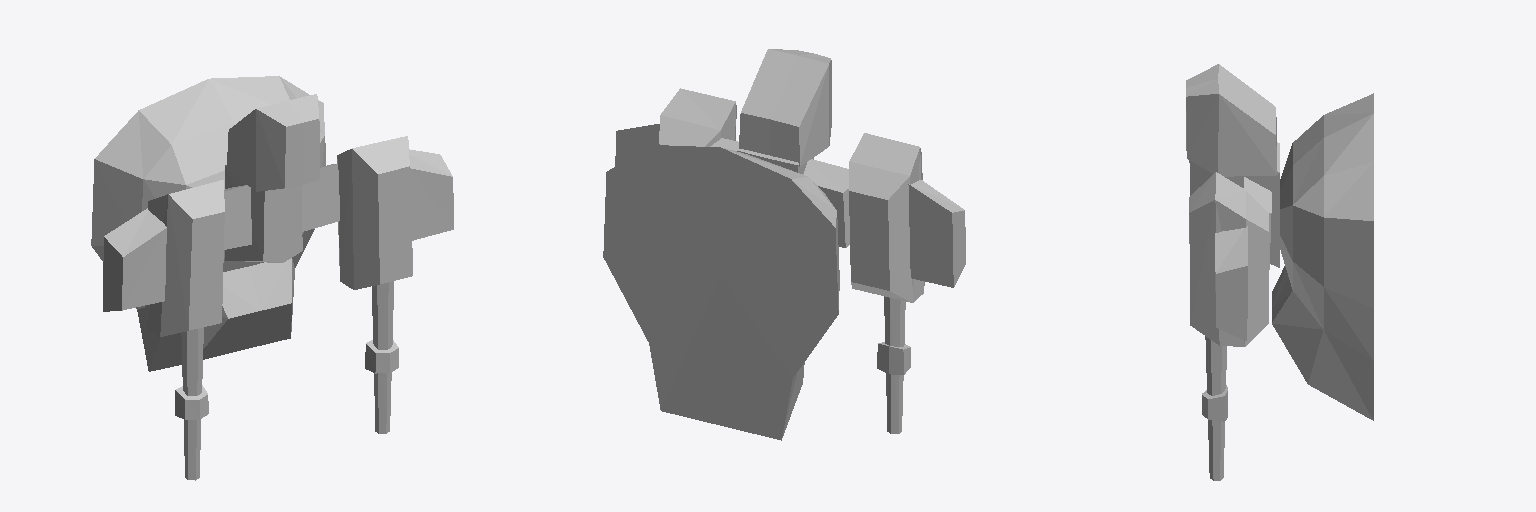
File: turret-13.obj
3 renders of one model, left to right at view 1: azimuth 30°, elevation 25°; view 2: azimuth 150°, elevation 25°; view 3: azimuth 270°, elevation 25°, orthographic.
Parts seen in each view (by area): view 1: turret_13; view 2: turret_13; view 3: turret_13.
Part boxes in pixels (x1,y1,x2,y2): turret_13: (91, 76, 453, 480); turret_13: (603, 49, 965, 440); turret_13: (1186, 64, 1373, 480).
Bounding box in the file's own units: 4.91 × 4.92 × 2.36.